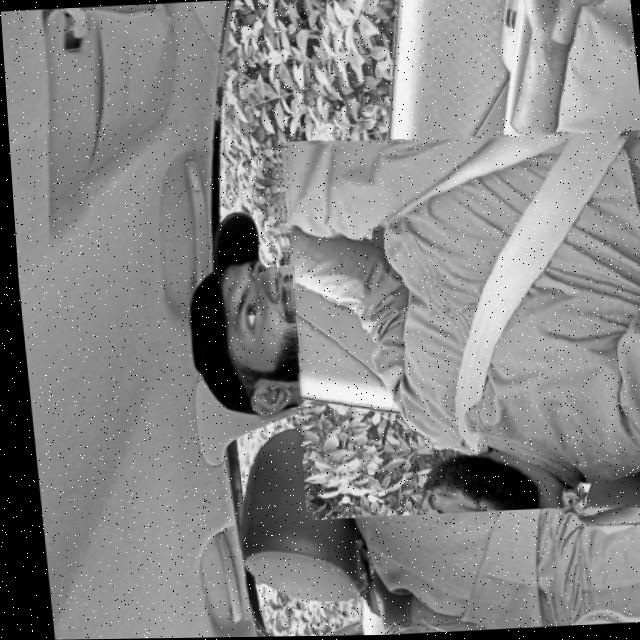seatbelt: (266, 130, 640, 523)
